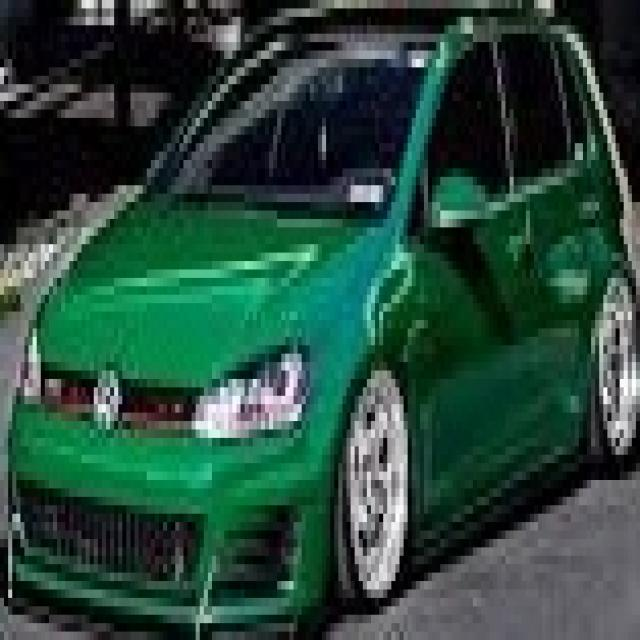green: (8, 8, 636, 640)
